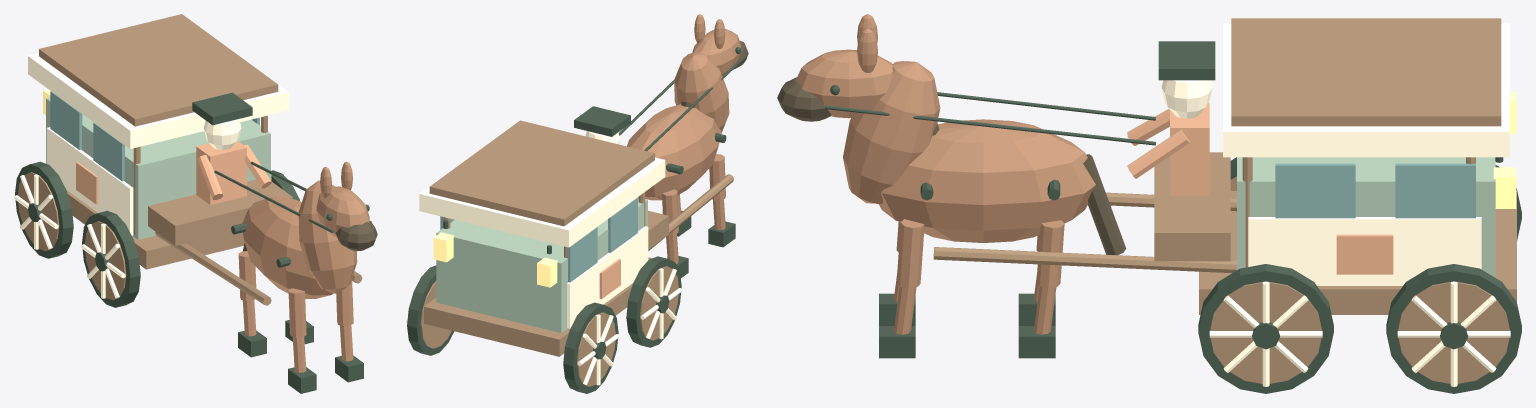
Rendered from cliff-carriage.glb.
3 renders of one model, left to right at view 1: azimuth 30°, elevation 25°; view 2: azimuth 150°, elevation 25°; view 3: azimuth 270°, elevation 25°, orthographic. The views are drawn at different scales.
Visible parts, largest first — view 1: CoachBatch_CliffCarriage_MAT_Coach_Wood, CoachBatch_CliffCarriage_MAT_Coach_Chestnut, CoachBatch_CliffCarriage_MAT_Coach_Cream, CoachBody, CoachBatch_CliffCarriage_MAT_Coach_Rose, CoachBatch_CliffCarriage_MAT_Coach_Glass, CoachBatch_CliffCarriage_MAT_Coach_Ink, CoachBatch_CartWheel-1.0-1_MAT_Coach_Ink, CoachBatch_CartWheel-2.33-1_MAT_Coach_Ink, WheelRim.002, WheelRim, CoachBatch_HorseLeg2_MAT_Coach_Chestnut (+9 smaller); view 2: CoachBatch_CliffCarriage_MAT_Coach_Wood, CoachBody, CoachBatch_CliffCarriage_MAT_Coach_Chestnut, CoachBatch_CliffCarriage_MAT_Coach_Cream, CoachBatch_CliffCarriage_MAT_Coach_Glass, CoachBatch_CliffCarriage_MAT_Coach_Ink, CoachBatch_CartWheel-1.0-1_MAT_Coach_Ink, CoachBatch_CartWheel-2.33-1_MAT_Coach_Ink, CoachBatch_CartWheel-2.331_MAT_Coach_Ink, WheelRim.002, WheelRim, CoachBatch_CliffCarriage_MAT_Coach_Gold (+7 smaller); view 3: CoachBatch_CliffCarriage_MAT_Coach_Wood, CoachBatch_CliffCarriage_MAT_Coach_Chestnut, CoachBatch_CliffCarriage_MAT_Coach_Cream, CoachBatch_CliffCarriage_MAT_Coach_Glass, CoachBody, CoachBatch_CliffCarriage_MAT_Coach_Rose, WheelRim.001, WheelRim.003, CoachBatch_CartWheel-2.331_MAT_Coach_Ink, CoachBatch_CartWheel-1.01_MAT_Coach_Ink, CoachBatch_CliffCarriage_MAT_Coach_Ink, CoachBatch_CliffCarriage_MAT_Coach_Mane (+9 smaller).
Boxes of the visible parts, <box> form: CoachBatch_CliffCarriage_MAT_Coach_Wood: <box>39,14,362,305</box>; CoachBatch_CliffCarriage_MAT_Coach_Chestnut: <box>242,161,369,298</box>; CoachBatch_CliffCarriage_MAT_Coach_Cream: <box>28,17,289,235</box>; CoachBody: <box>46,97,270,239</box>; CoachBatch_CliffCarriage_MAT_Coach_Rose: <box>76,141,271,204</box>; CoachBatch_CliffCarriage_MAT_Coach_Glass: <box>50,91,259,181</box>; CoachBatch_CliffCarriage_MAT_Coach_Ink: <box>192,92,371,267</box>; CoachBatch_CartWheel-1.0-1_MAT_Coach_Ink: <box>82,210,140,307</box>; CoachBatch_CartWheel-2.33-1_MAT_Coach_Ink: <box>15,161,73,258</box>; WheelRim.002: <box>85,221,126,300</box>; WheelRim: <box>18,172,59,251</box>; CoachBatch_HorseLeg2_MAT_Coach_Chestnut: <box>288,288,306,372</box>; CoachBatch_CliffCarriage_MAT_Coach_Wood: <box>424,120,733,356</box>; CoachBody: <box>436,197,647,332</box>; CoachBatch_CliffCarriage_MAT_Coach_Chestnut: <box>627,14,740,200</box>; CoachBatch_CliffCarriage_MAT_Coach_Cream: <box>419,123,665,328</box>; CoachBatch_CliffCarriage_MAT_Coach_Glass: <box>440,197,637,282</box>; CoachBatch_CliffCarriage_MAT_Coach_Ink: <box>443,47,742,254</box>; CoachBatch_CartWheel-1.0-1_MAT_Coach_Ink: <box>626,256,681,347</box>; CoachBatch_CartWheel-2.33-1_MAT_Coach_Ink: <box>563,302,618,393</box>; CoachBatch_CartWheel-2.331_MAT_Coach_Ink: <box>407,265,454,355</box>; WheelRim.002: <box>640,266,678,340</box>; WheelRim: <box>577,312,615,386</box>; CoachBatch_CliffCarriage_MAT_Coach_Gold: <box>433,232,557,287</box>; CoachBatch_CliffCarriage_MAT_Coach_Wood: <box>933,18,1516,314</box>; CoachBatch_CliffCarriage_MAT_Coach_Chestnut: <box>796,14,1095,242</box>; CoachBatch_CliffCarriage_MAT_Coach_Cream: <box>1161,23,1509,285</box>; CoachBatch_CliffCarriage_MAT_Coach_Glass: <box>1275,163,1475,218</box>; CoachBody: <box>1237,157,1495,277</box>; CoachBatch_CliffCarriage_MAT_Coach_Rose: <box>1127,102,1393,274</box>; WheelRim.001: <box>1398,281,1509,383</box>; WheelRim.003: <box>1210,281,1322,383</box>; CoachBatch_CartWheel-2.331_MAT_Coach_Ink: <box>1386,264,1521,393</box>; CoachBatch_CartWheel-1.01_MAT_Coach_Ink: <box>1198,264,1333,393</box>; CoachBatch_CliffCarriage_MAT_Coach_Ink: <box>825,41,1503,200</box>; CoachBatch_CliffCarriage_MAT_Coach_Mane: <box>777,77,1126,255</box>.
Size of the model in its own units: 2.16 by 2.46 by 5.27.
